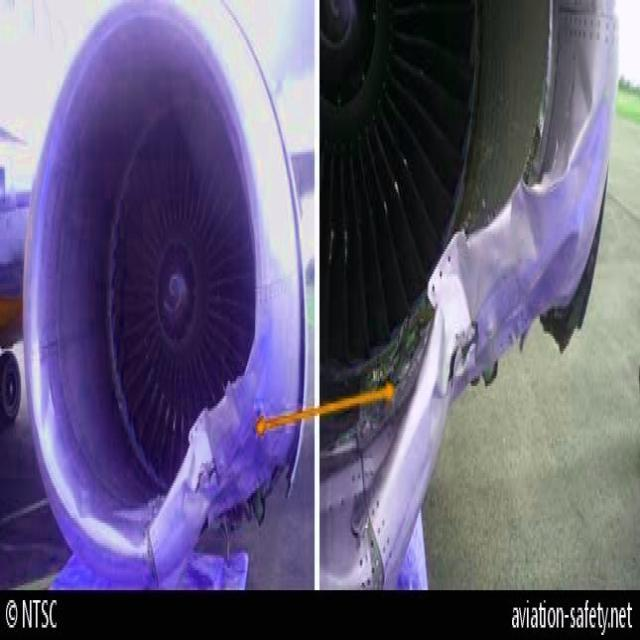dent: (514, 175, 547, 260), (452, 238, 478, 328)
